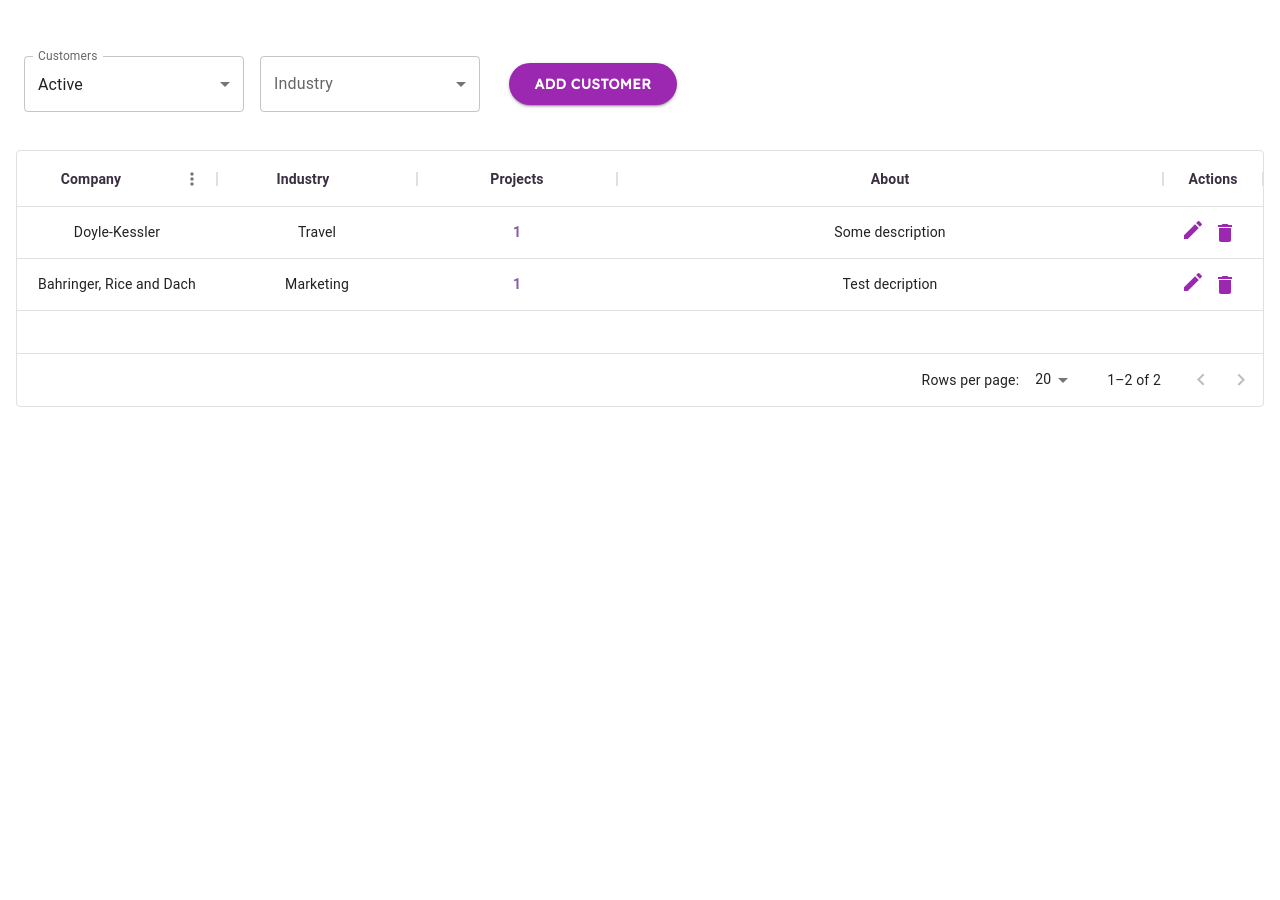
Home Page › When the request to get the customers list is successful › Deleting an inactive customer › should hide the dialog when the user click the cancel button on the dialog
This screenshot has width=1280, height=900.
Click the button named "delete" in the row of "Doyle-Kessler": (1225, 232) x1=1205 y1=212 x2=1245 y2=252
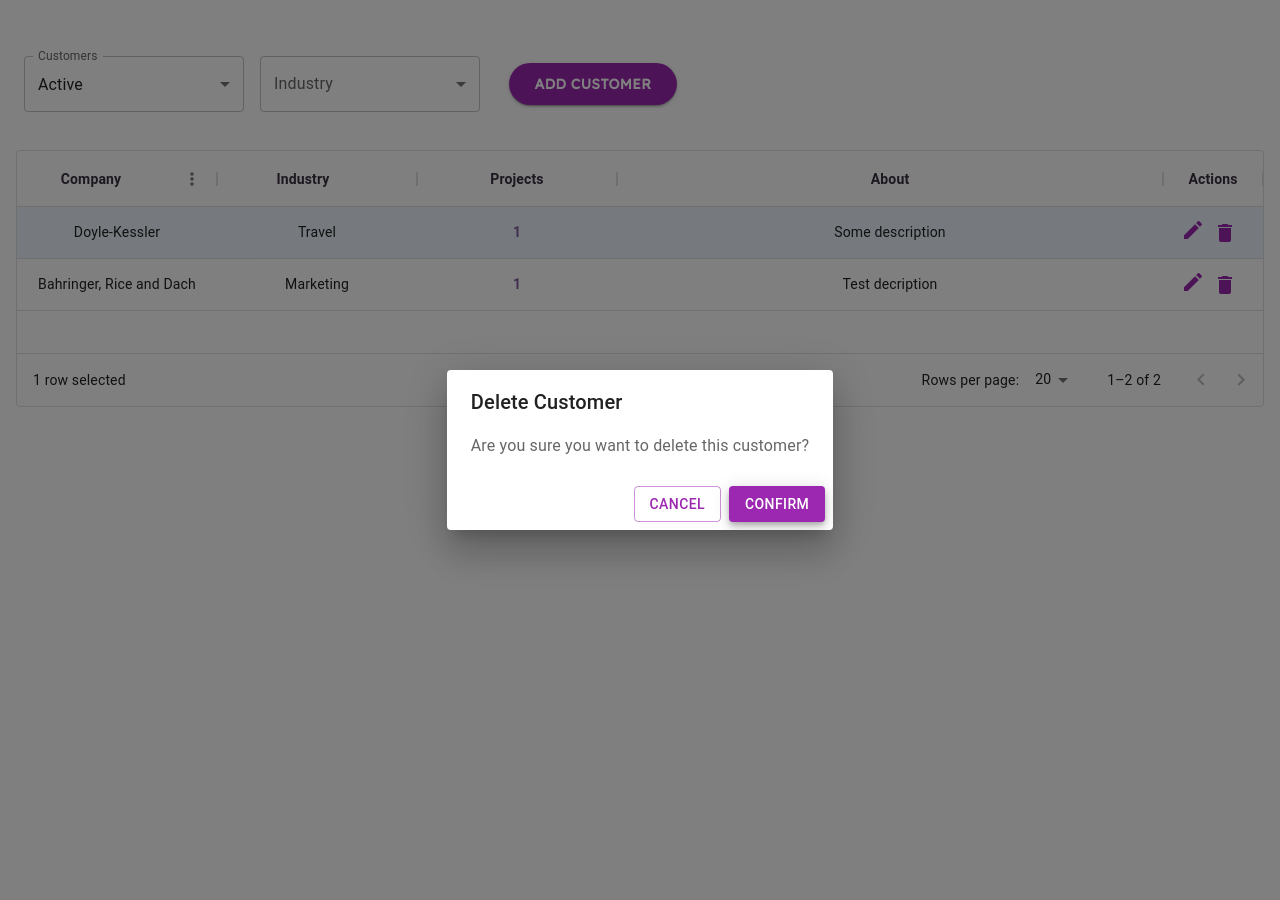
Click the button "Cancel": (677, 504) x1=634 y1=486 x2=721 y2=522
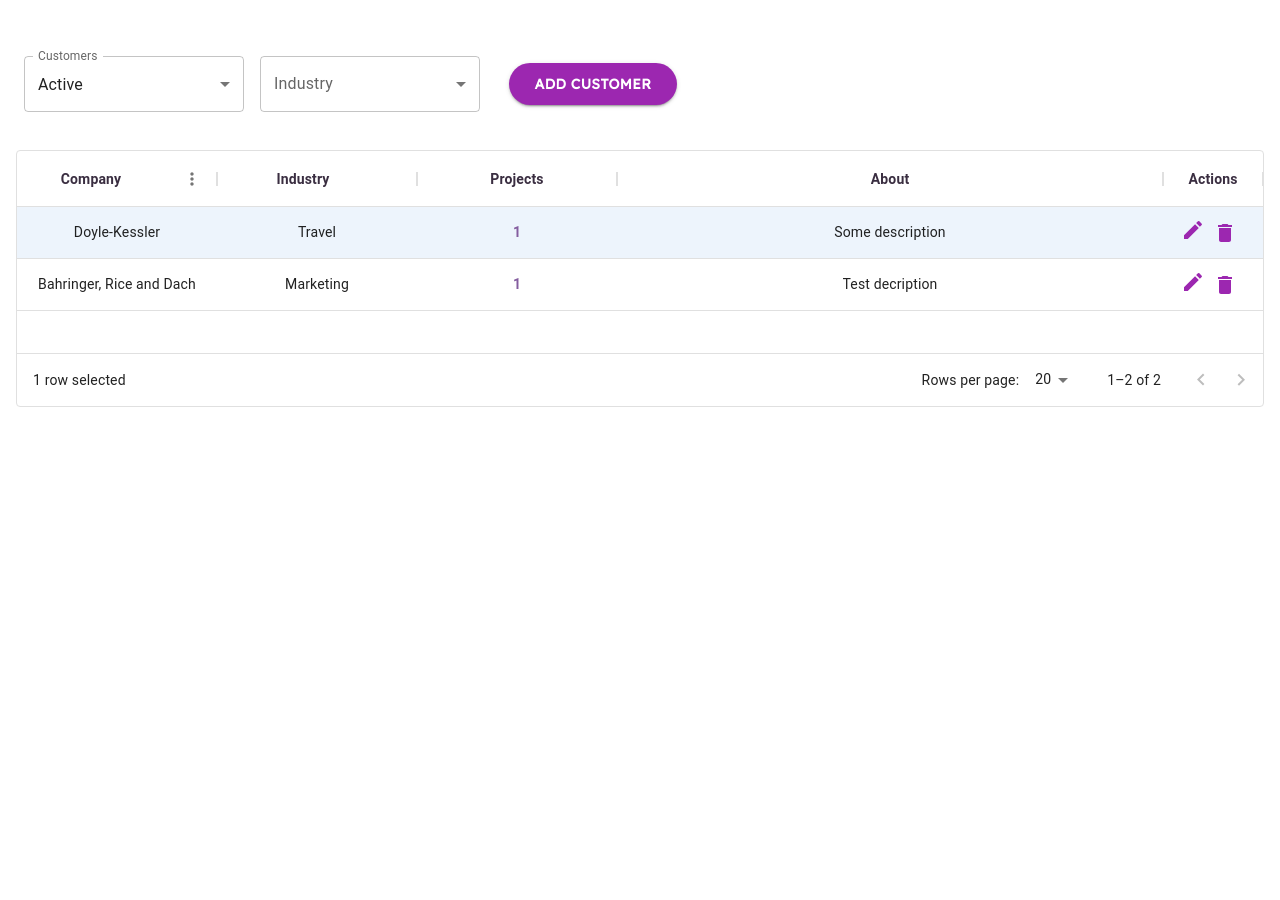
Result: the text "Are you sure you want to delete this?" is gone
